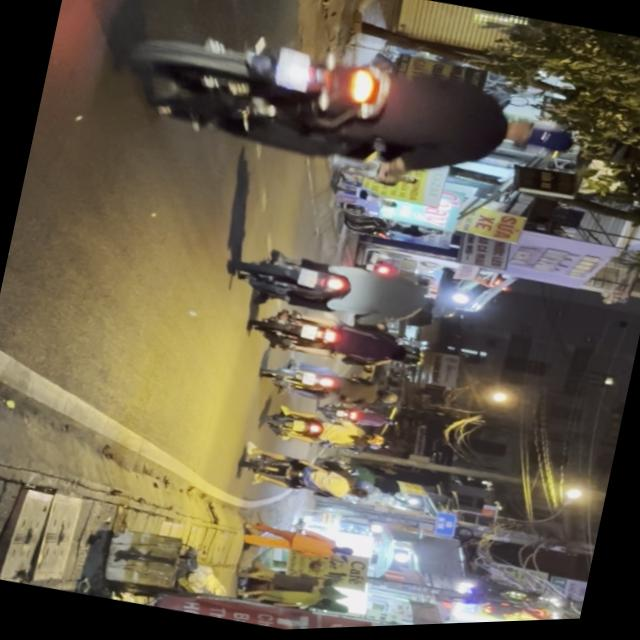helmet: (501, 114, 576, 164), (418, 295, 460, 326)
licenseplate: (98, 0, 588, 223), (227, 233, 468, 346)
nohelmet: (272, 47, 314, 95), (296, 268, 320, 291)
